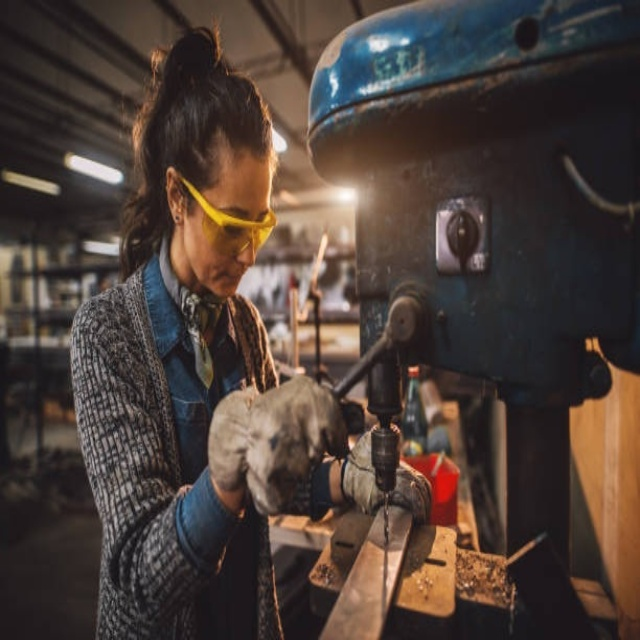Gafas: (175, 168, 278, 260)
Guantes: (208, 365, 364, 522), (344, 430, 434, 535)
Sin_mascara: (205, 265, 251, 296)
